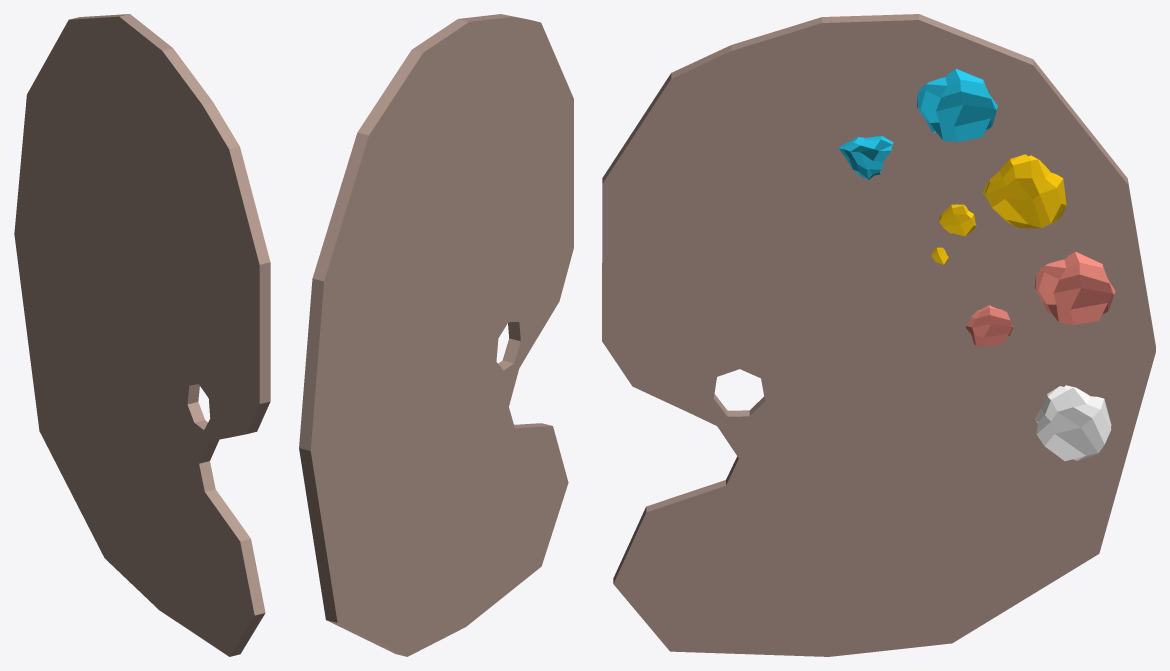
The model's file is Paint_Palette_01.gltf.
3 views of the same model, side by side, from view 1: azimuth 30°, elevation 25°; view 2: azimuth 150°, elevation 25°; view 3: azimuth 270°, elevation 25° (orthographic). The views are drawn at different scales.
Parts seen in each view (by area): view 1: node-0; view 2: node-0; view 3: node-0.
Boxes of the visible parts, x1,y1,x2,y2 form: node-0: [14, 14, 270, 656]; node-0: [299, 14, 573, 656]; node-0: [602, 14, 1155, 656].
Size of the model in its own units: 0.6685 by 15.8 by 12.45.
